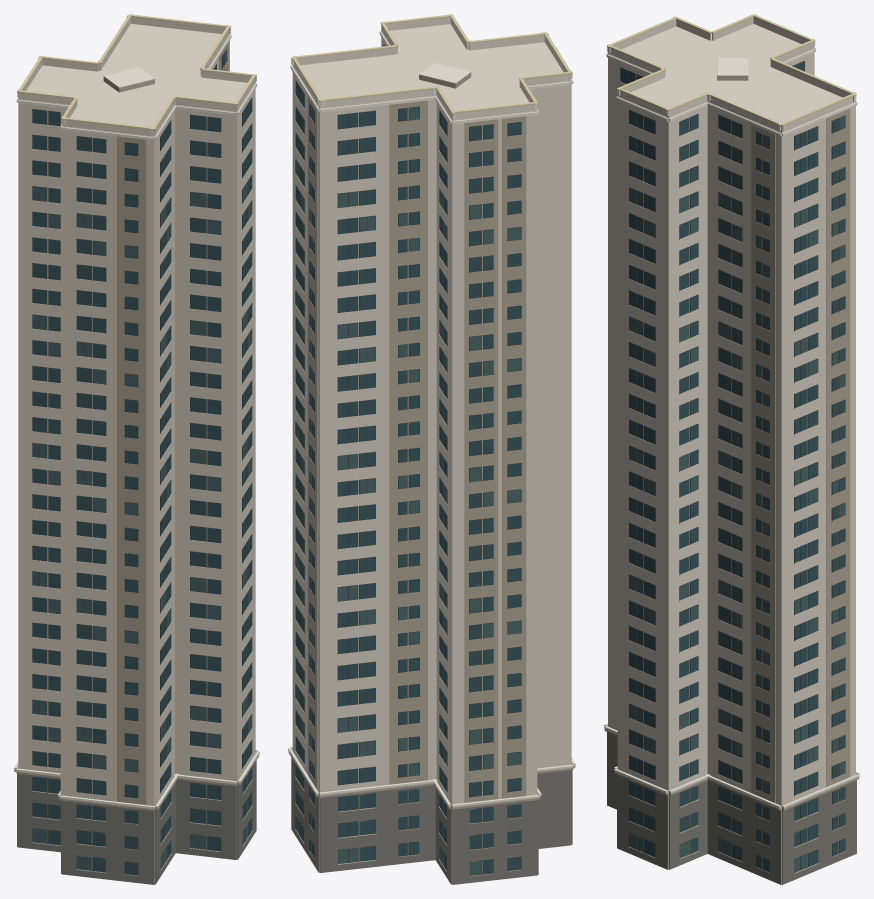
The model's file is bespoke-raemian-prestige-125.glb.
The picture shows the model from 3 angles, left to right: view 1: azimuth 30°, elevation 25°; view 2: azimuth 150°, elevation 25°; view 3: azimuth 270°, elevation 25°; orthographic projection. The views are drawn at different scales.
Visible parts, largest first — view 1: Prestige_warm_ivory_rendered_wall011, Prestige_recessed_blue_green_window011, Prestige_dark_bronze_thin_window_frame011, Prestige_wide_taupe_pilasters011, Prestige_dark_brown_grey_stone_base011, Prestige_muted_green_window_pair011, Prestige_pale_limestone_band011, Prestige_cream_gold_crown_coping011; view 2: Prestige_warm_ivory_rendered_wall011, Prestige_wide_taupe_pilasters011, Prestige_recessed_blue_green_window011, Prestige_dark_brown_grey_stone_base011, Prestige_dark_bronze_thin_window_frame011, Prestige_muted_green_window_pair011, Prestige_pale_limestone_band011, Prestige_cream_gold_crown_coping011; view 3: Prestige_warm_ivory_rendered_wall011, Prestige_recessed_blue_green_window011, Prestige_wide_taupe_pilasters011, Prestige_dark_bronze_thin_window_frame011, Prestige_dark_brown_grey_stone_base011, Prestige_muted_green_window_pair011, Prestige_pale_limestone_band011, Prestige_cream_gold_crown_coping011.
Part boxes in pixels (x1,y1,x2,y2): Prestige_warm_ivory_rendered_wall011: (18,17,255,884); Prestige_recessed_blue_green_window011: (32,54,252,875); Prestige_dark_bronze_thin_window_frame011: (32,49,252,875); Prestige_wide_taupe_pilasters011: (14,42,259,875); Prestige_dark_brown_grey_stone_base011: (17,760,256,884); Prestige_muted_green_window_pair011: (32,50,252,870); Prestige_pale_limestone_band011: (14,28,259,808); Prestige_cream_gold_crown_coping011: (17,14,256,130); Prestige_warm_ivory_rendered_wall011: (292,17,571,883); Prestige_wide_taupe_pilasters011: (288,73,575,876); Prestige_recessed_blue_green_window011: (295,45,520,874); Prestige_dark_brown_grey_stone_base011: (291,750,572,884); Prestige_dark_bronze_thin_window_frame011: (295,44,521,875); Prestige_muted_green_window_pair011: (295,107,520,875); Prestige_pale_limestone_band011: (288,31,575,807); Prestige_cream_gold_crown_coping011: (291,14,572,113); Prestige_warm_ivory_rendered_wall011: (608,17,855,884); Prestige_recessed_blue_green_window011: (620,61,845,871); Prestige_wide_taupe_pilasters011: (604,59,859,872); Prestige_dark_bronze_thin_window_frame011: (620,61,845,872); Prestige_dark_brown_grey_stone_base011: (607,732,856,884); Prestige_muted_green_window_pair011: (629,116,845,872); Prestige_pale_limestone_band011: (604,39,859,808); Prestige_cream_gold_crown_coping011: (607,14,856,126).
Size of the model in its own units: 26.37 by 82.1 by 25.01.
